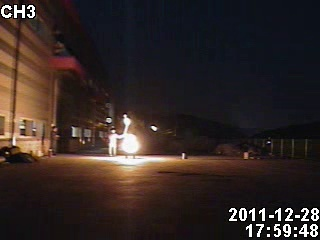fire: (117, 132, 140, 154), (120, 113, 133, 128)
